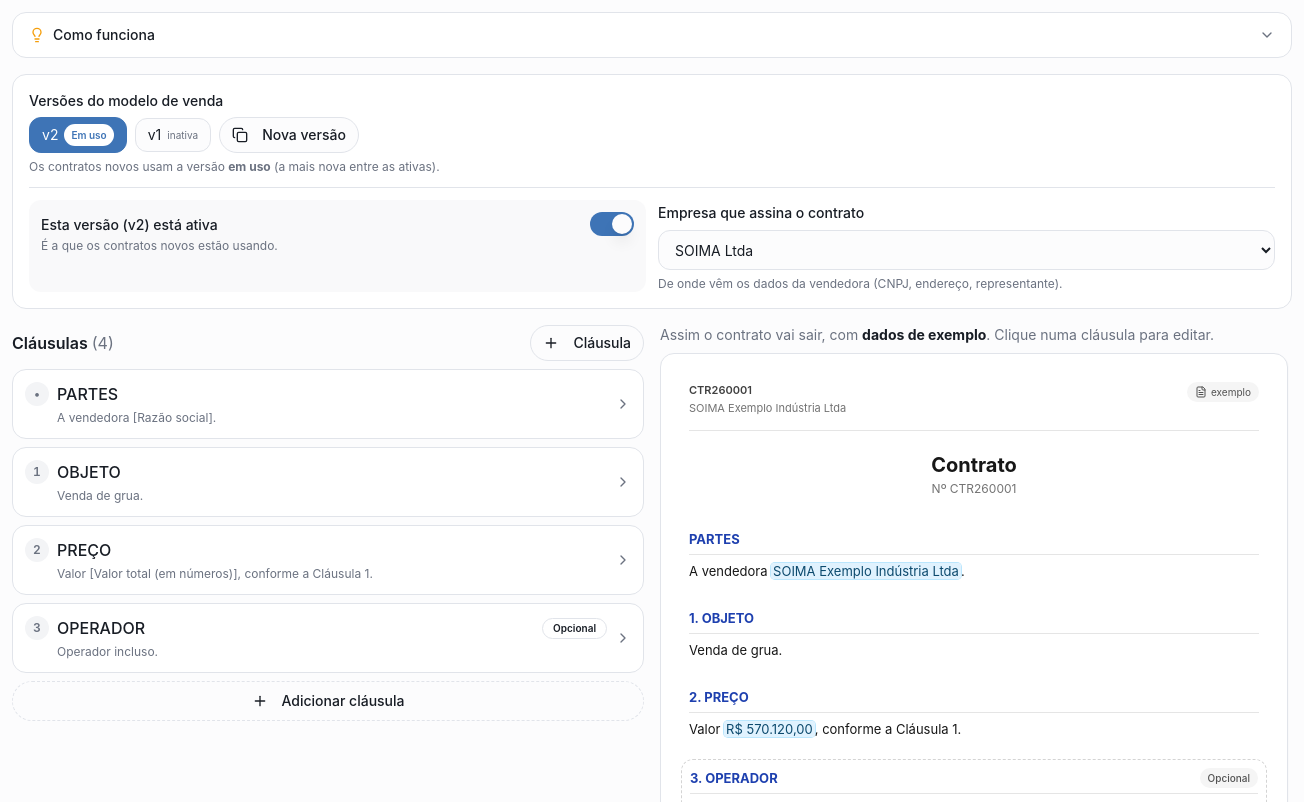
it: editor do modelo — rascunho guardado, versões e proteção › trocar de versão sem alterações é direto
The width and height of the screenshot is (1304, 802).
Expected: the heading "Cláusulas (4)" is shown, left=12, top=331, right=114, bottom=355
What coordinates should you click on to do the following:
click the button "v1 inativa"
I would click on:
 (173, 135)
Its box is left=135, top=118, right=211, bottom=152.
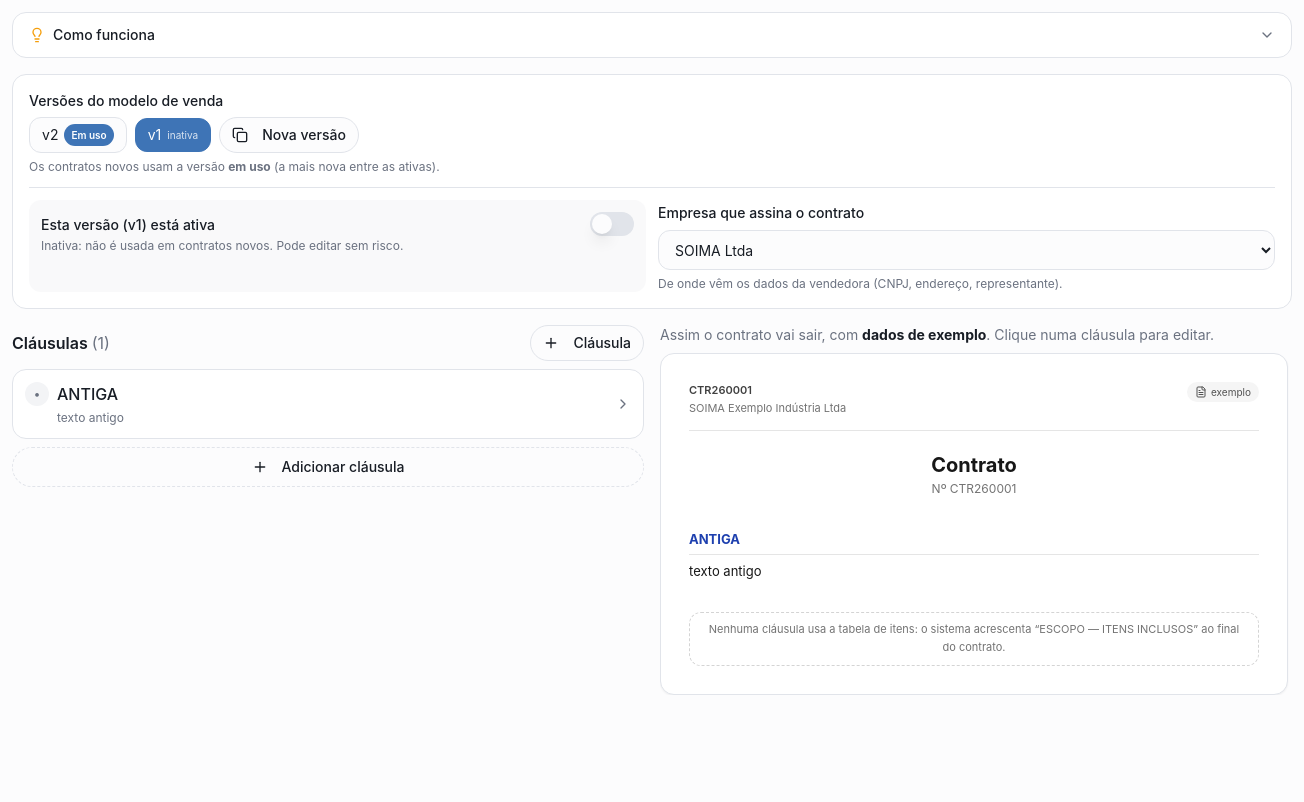
Now the text "ANTIGA" is shown, box left=57, top=384, right=118, bottom=404
